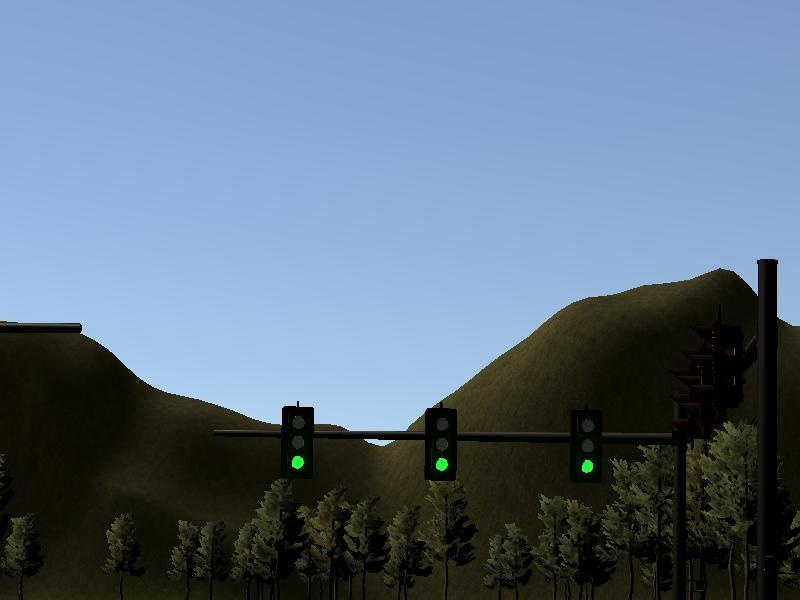GREEN: (565, 406, 607, 486), (420, 405, 460, 485), (276, 400, 312, 481)
